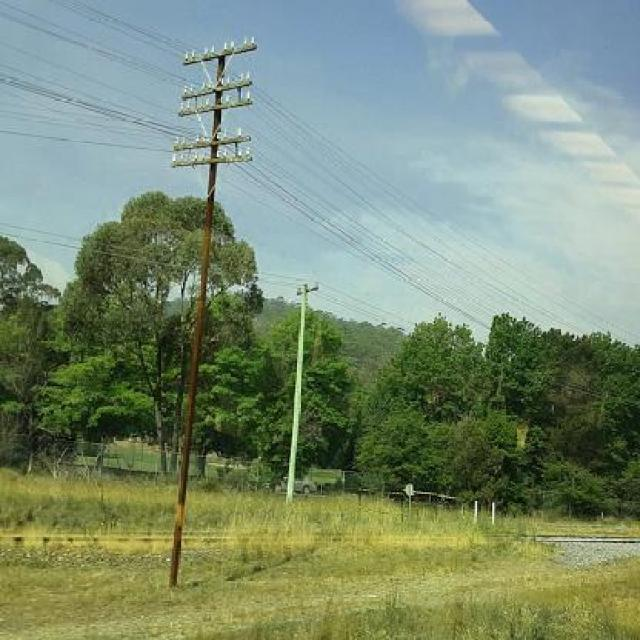pole: (157, 32, 268, 578), (275, 268, 331, 504)
